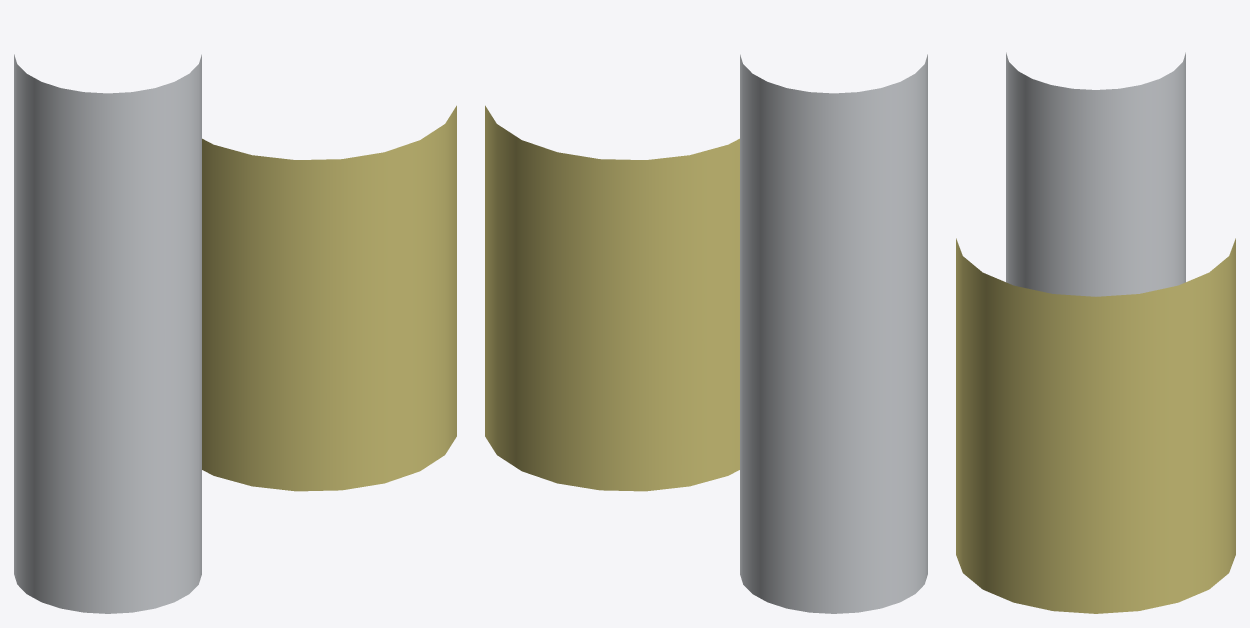
The model's file is sand_bulking_moisture_content.glb.
The picture shows the model from 3 angles, left to right: view 1: azimuth 30°, elevation 25°; view 2: azimuth 150°, elevation 25°; view 3: azimuth 270°, elevation 25°; orthographic projection. The views are drawn at different scales.
Parts seen in each view (by area): view 1: GlassMeasuringCylinder250ml, StandardSieveNestStack; view 2: GlassMeasuringCylinder250ml, StandardSieveNestStack; view 3: StandardSieveNestStack, GlassMeasuringCylinder250ml.
Part boxes in pixels (x1=…): GlassMeasuringCylinder250ml: x1=14, y1=54, x2=201, y2=613; StandardSieveNestStack: x1=202, y1=105, x2=456, y2=491; GlassMeasuringCylinder250ml: x1=740, y1=54, x2=927, y2=613; StandardSieveNestStack: x1=485, y1=105, x2=739, y2=491; StandardSieveNestStack: x1=956, y1=238, x2=1235, y2=613; GlassMeasuringCylinder250ml: x1=1006, y1=52, x2=1185, y2=296.
Bounding box in the file's own units: 0.91 × 1.1 × 0.56.
